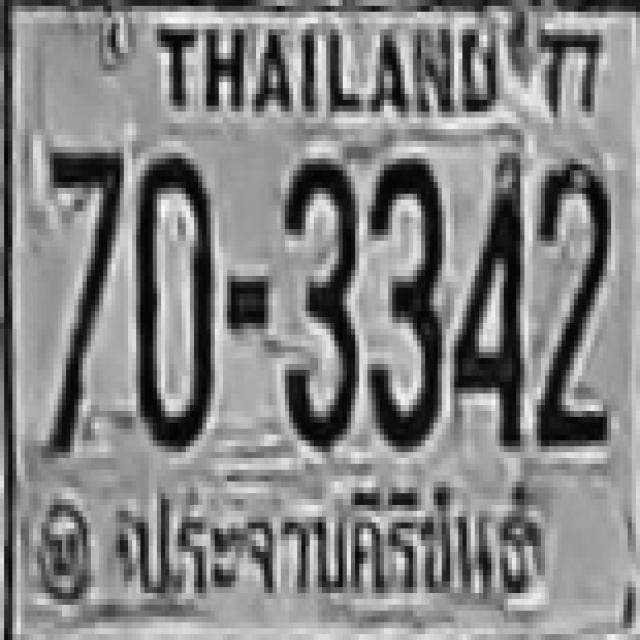0: (134, 150, 213, 443)
2: (535, 158, 609, 434), (535, 156, 609, 414)
3: (279, 153, 357, 446), (365, 156, 440, 443)
4: (450, 150, 520, 443)
7: (43, 147, 122, 452)
PrachuapKhiriKhan: (122, 472, 545, 618)
